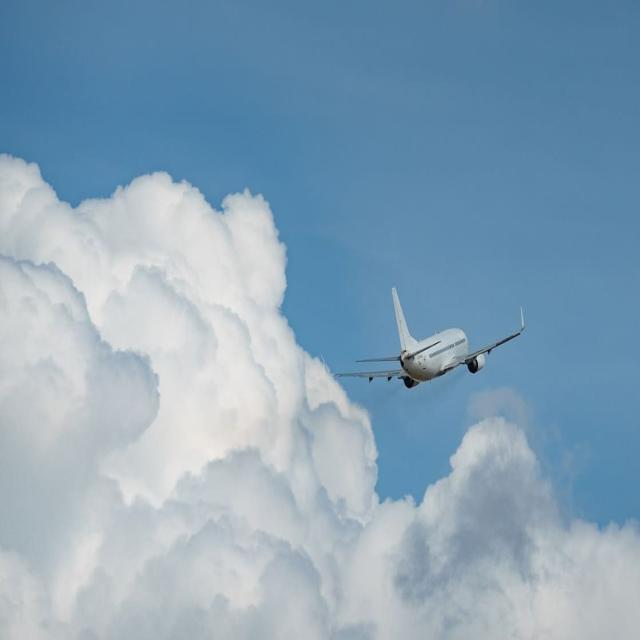aircraft: (263, 206, 611, 432)
